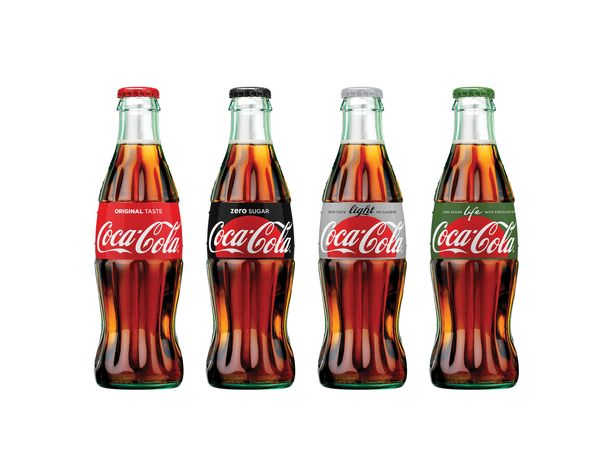Coca-Cola: (73, 78, 194, 394), (428, 83, 535, 395), (201, 89, 296, 403), (319, 85, 416, 391)
